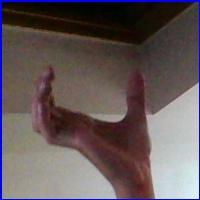space: (19, 58, 153, 156)
